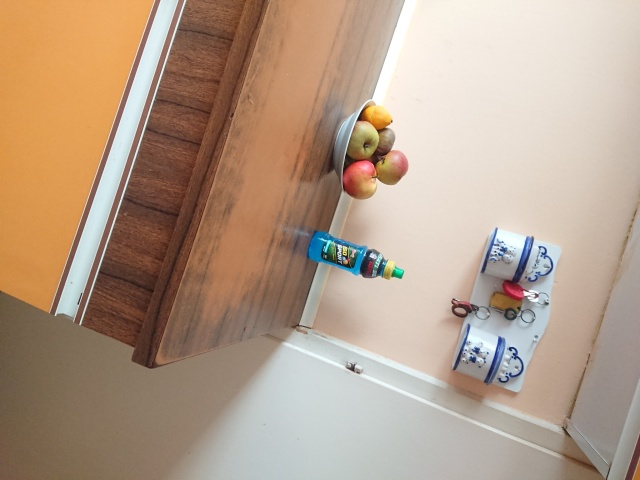Vindi Iso Sport Forest Strawberries 500mL: (306, 229, 405, 280)
